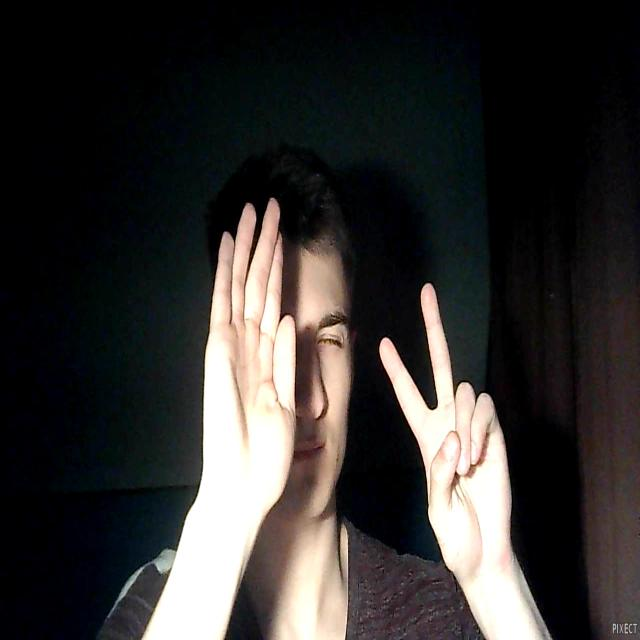Eyeclosed: (318, 330, 343, 352)
